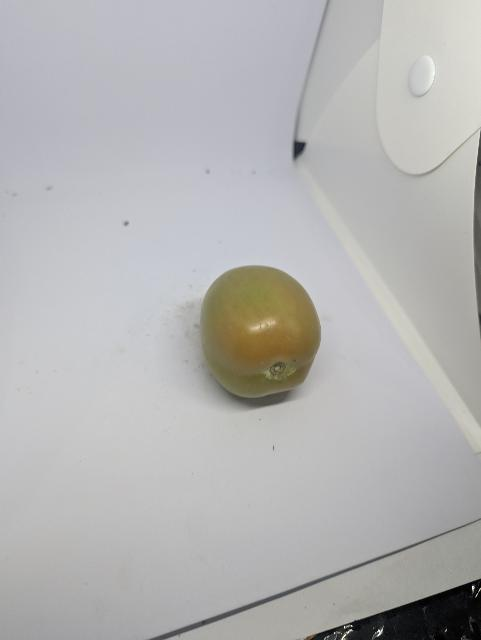breaker: (196, 263, 324, 401)
